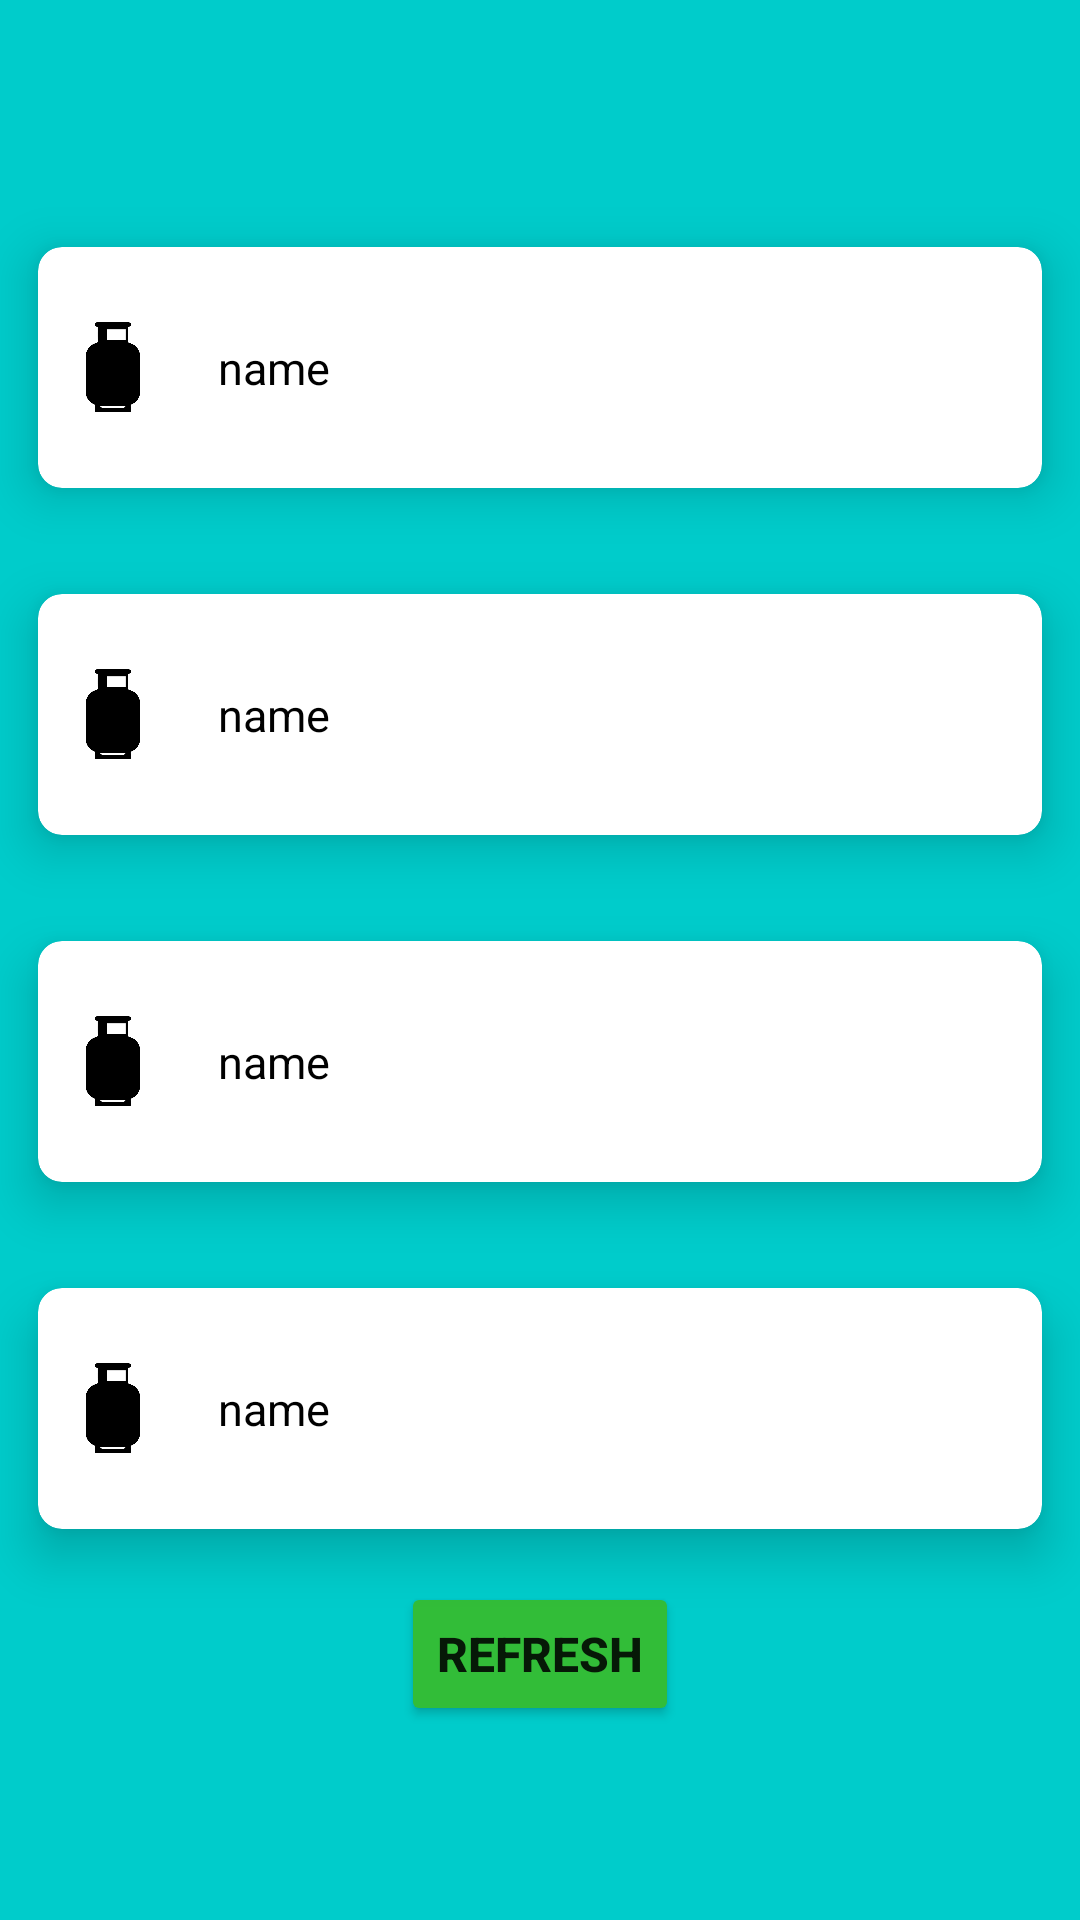

Where icons sit on this 1080*1920 app screen, as (x1, y1, x2, y2):
gas: (86, 322, 140, 412), (86, 669, 140, 759), (86, 1016, 140, 1106), (86, 1363, 140, 1453)
